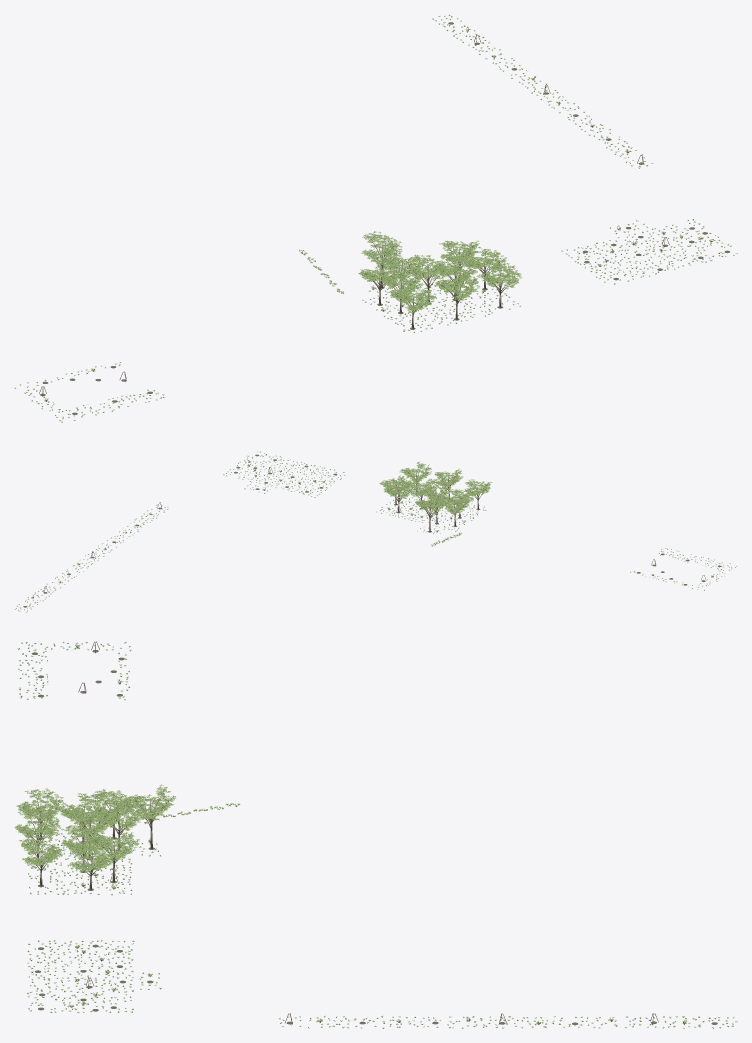
Rendered from 20261104-campus-planting-center-front.glb.
The picture shows the model from 3 angles, top to bottom: view 1: azimuth 30°, elevation 25°; view 2: azimuth 150°, elevation 25°; view 3: azimuth 270°, elevation 25°; orthographic projection. The views are drawn at different scales.
Parts seen in each view (by area): view 1: Layered garden groundcover 0, Layered garden groundcover 1; view 2: Layered garden groundcover 1, Layered garden groundcover 0, Exposed soil around tree trunks; view 3: Layered garden groundcover 1, Layered garden groundcover 0, Exposed soil around tree trunks.
Part boxes in pixels (<box>): Layered garden groundcover 0: <box>19,15,737,422</box>; Layered garden groundcover 1: <box>15,15,736,422</box>; Layered garden groundcover 1: <box>16,451,735,612</box>; Layered garden groundcover 0: <box>14,451,736,611</box>; Exposed soil around tree trunks: <box>23,454,721,607</box>; Layered garden groundcover 1: <box>18,642,735,1028</box>; Layered garden groundcover 0: <box>17,641,737,1028</box>; Exposed soil around tree trunks: <box>31,650,717,1025</box>.
Bounding box in the file's own units: 151 × 10.31 × 119.
